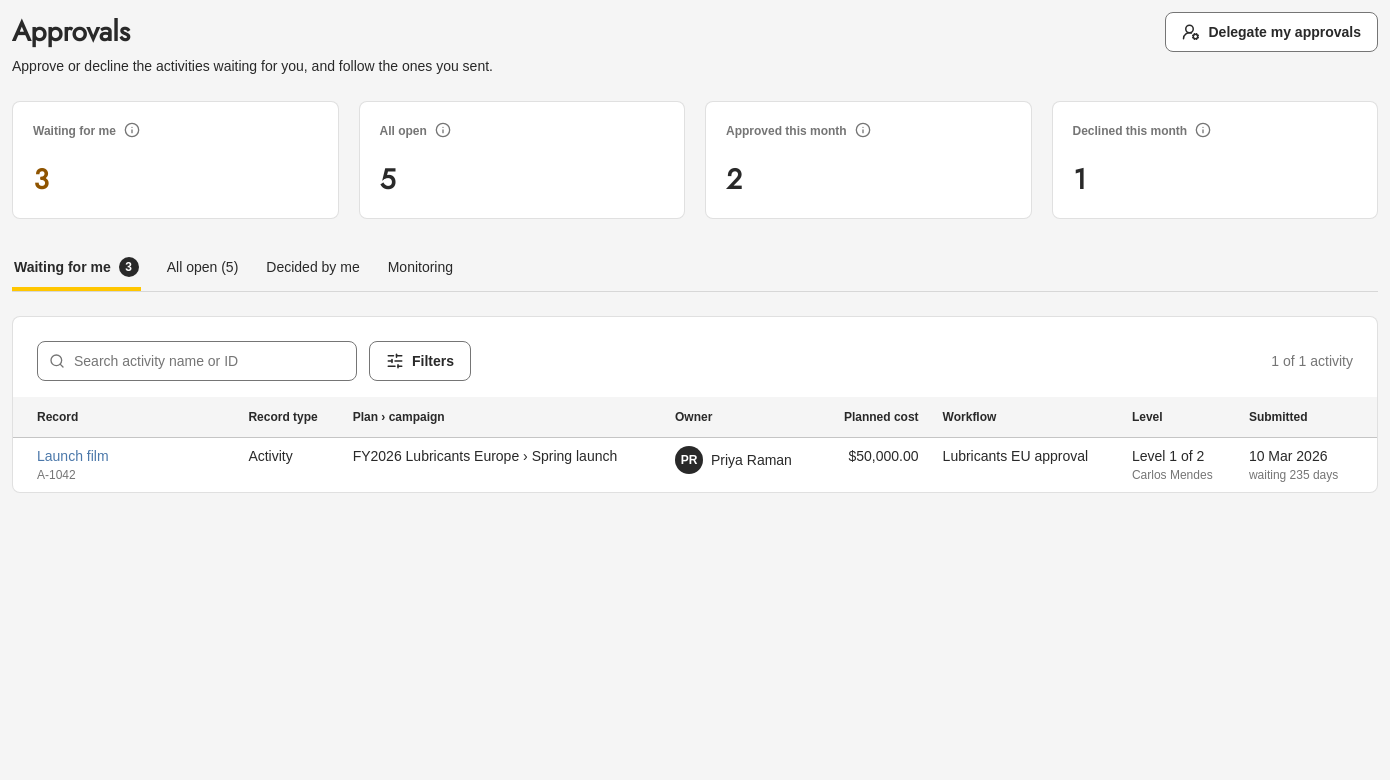
Test: ApprovalsPage (feature 008, US3) › switches tabs through the address, keeping the search (FR-029)
The width and height of the screenshot is (1390, 780).
Check: the button "Launch film" is shown, box [37, 446, 109, 466]
Type "radio" into the search field labelled "Search activity name or ID" at (197, 361), box [37, 341, 357, 381]
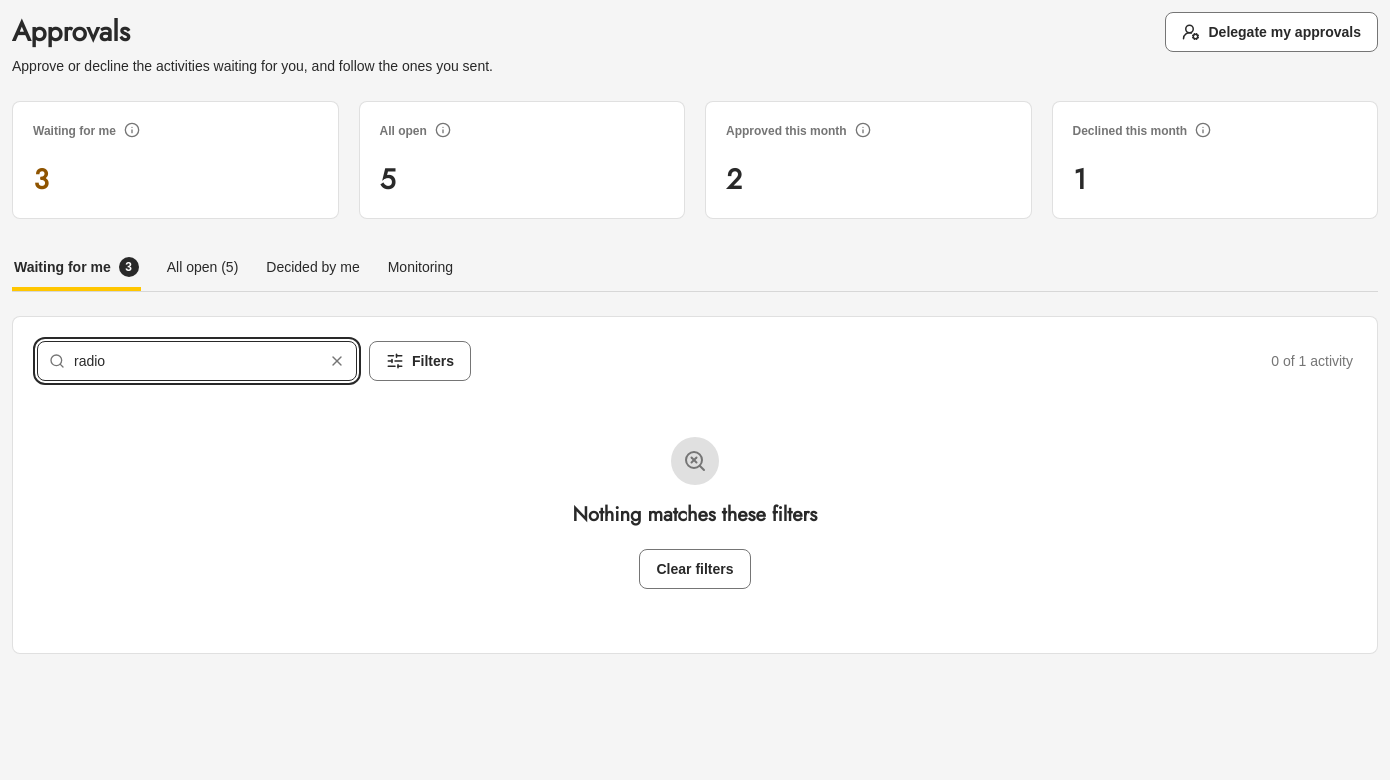
Check: the text "Nothing matches these filters" is shown, box [573, 501, 817, 529]
Click the tab "All open (5)" at (202, 267), box [165, 243, 240, 291]
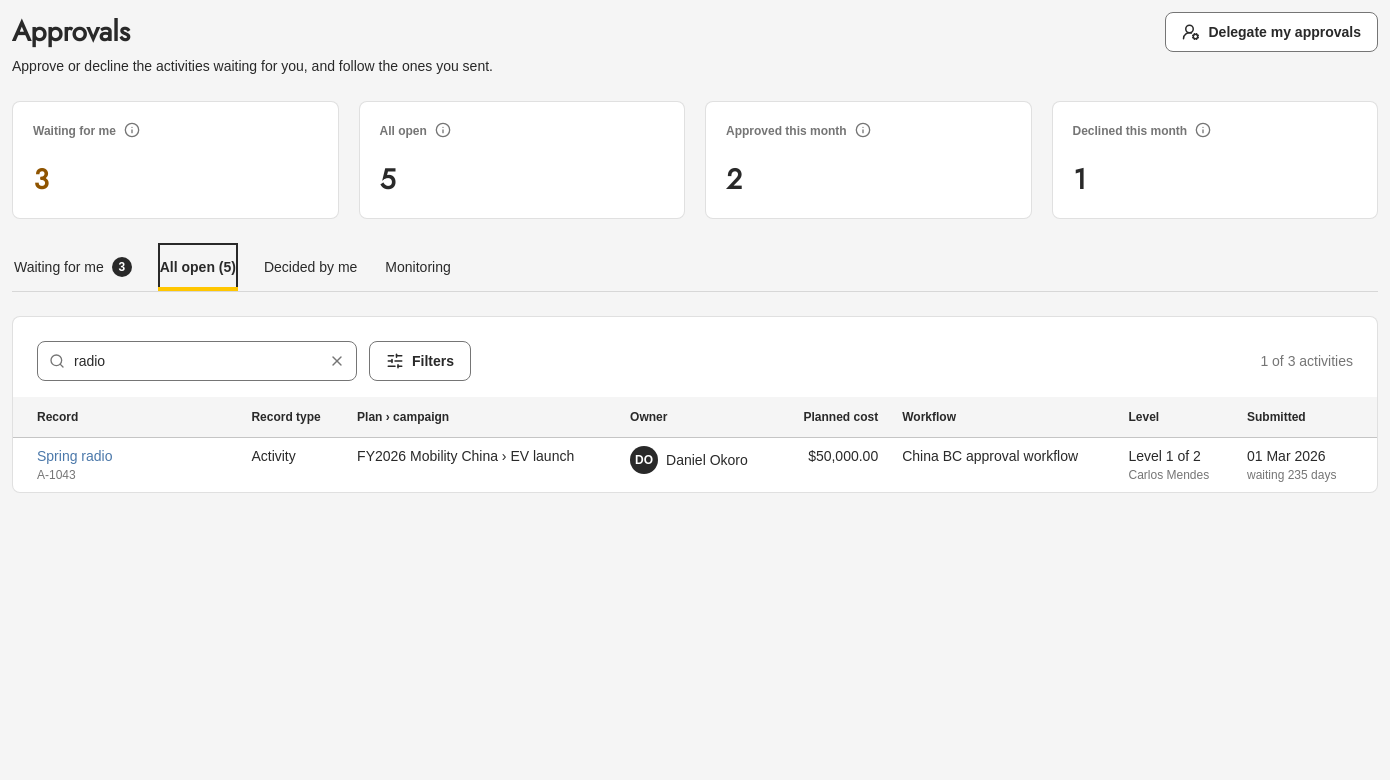
Check: the button "Spring radio" is shown, box [37, 446, 112, 466]
Check: the text "1 of 3 activities" is shown, box [1260, 350, 1353, 372]
